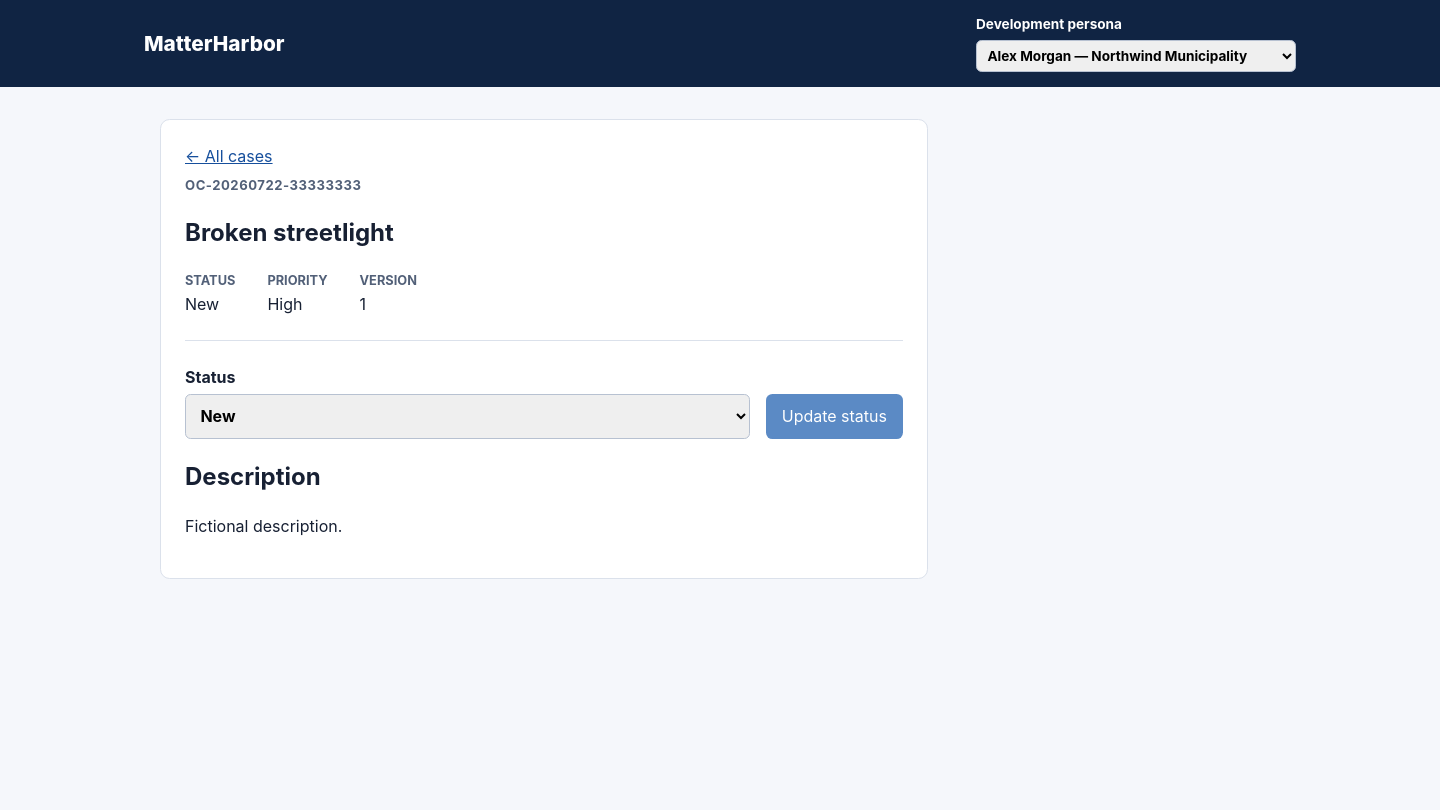
Test: explains a concurrency conflict and reloads the latest case
This screenshot has width=1440, height=810.
Expected: the heading "Broken streetlight" is shown, [185,218,394,247]
Expected: the option "Resolved" is not shown
Select "InProgress" in the dropdown labelled "Status" at (467, 416), box [185,394,750,439]
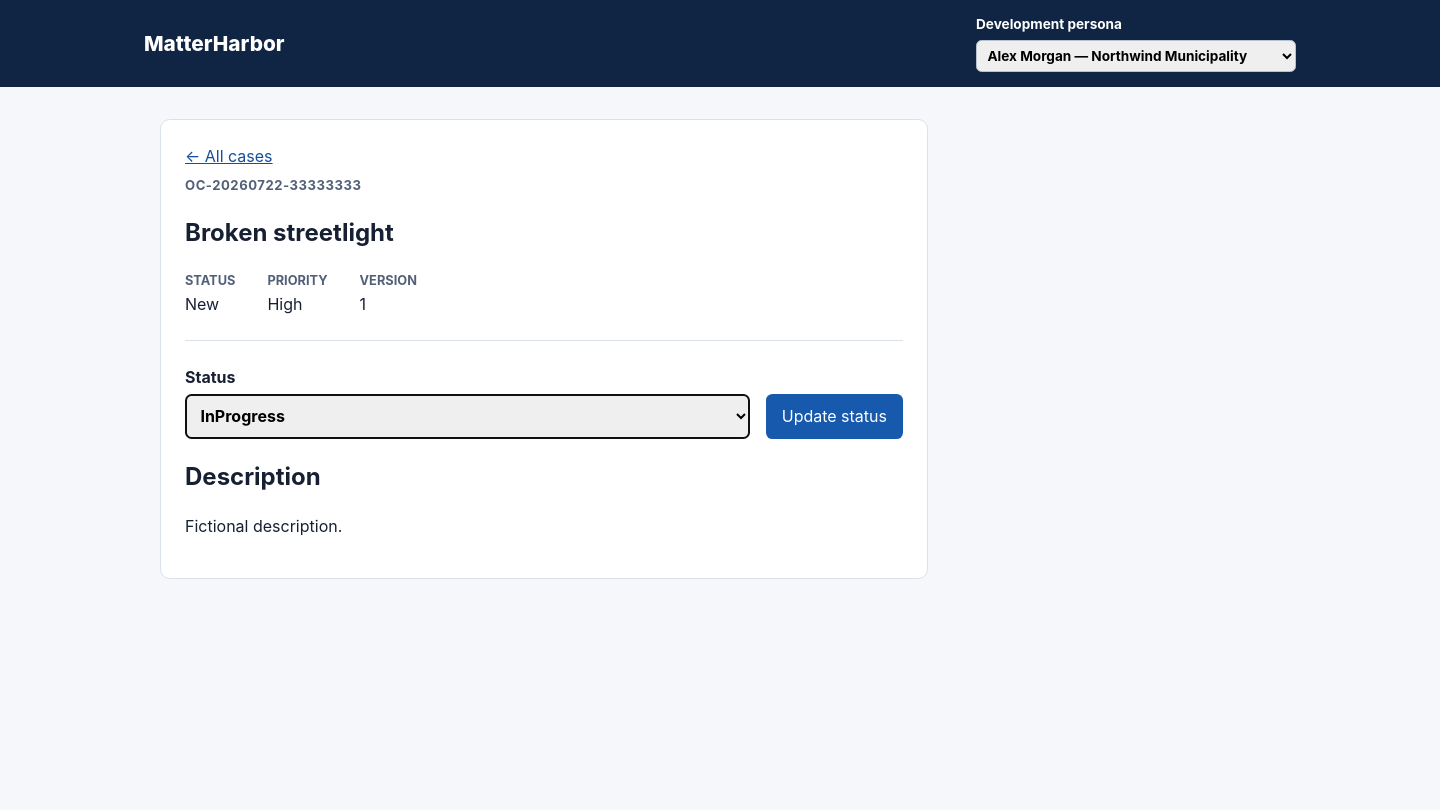
Click the button "Update status".
click(834, 416)  # box [766,394,903,439]
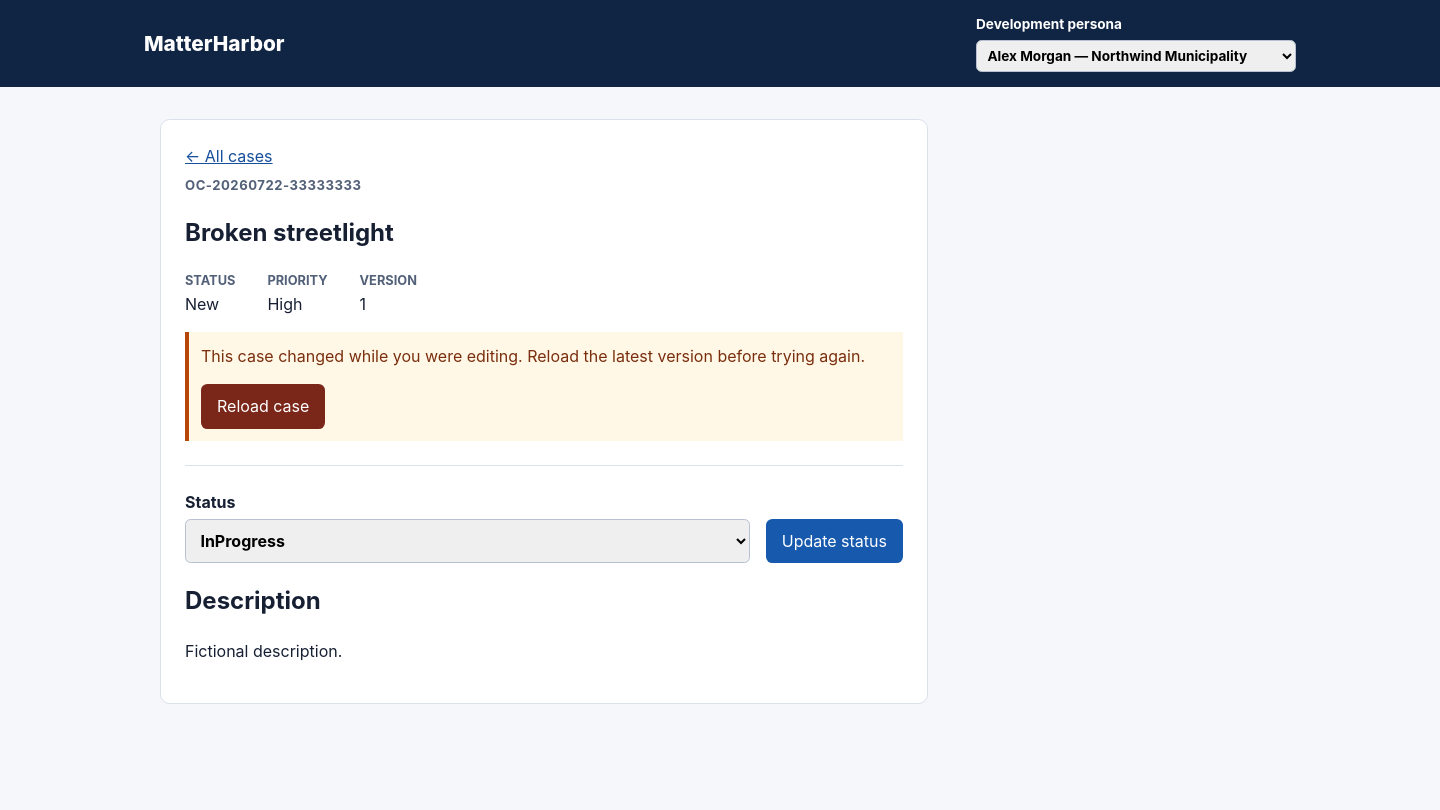
Expected: the message shows "changed while you were editing", [201,346,865,366]
Click the button "Reload case".
click(263, 406)  # box [201,384,325,429]
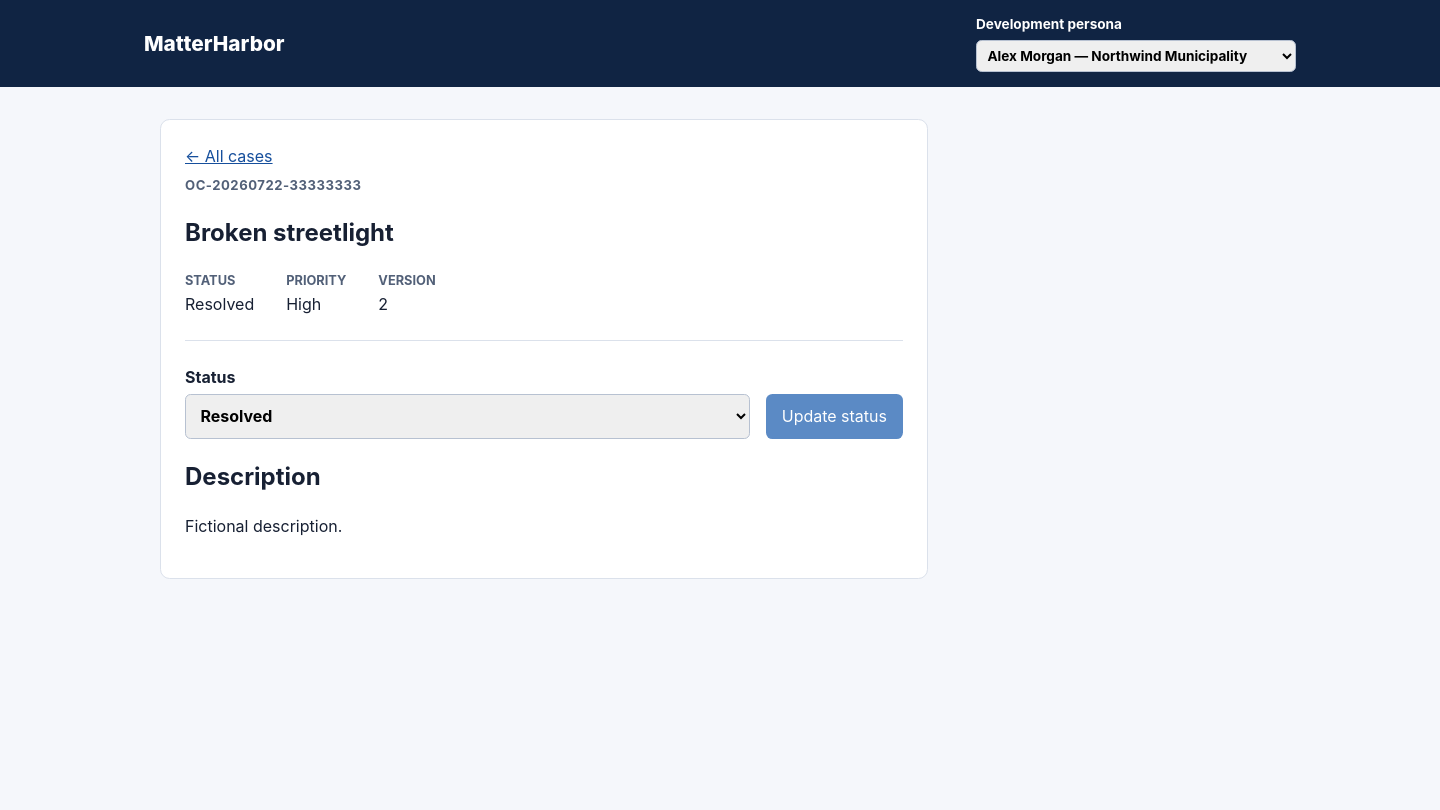
Expected: the text "2" is shown, [378,294,388,314]
Expected: the text "Resolved" is shown, [185,292,254,316]
